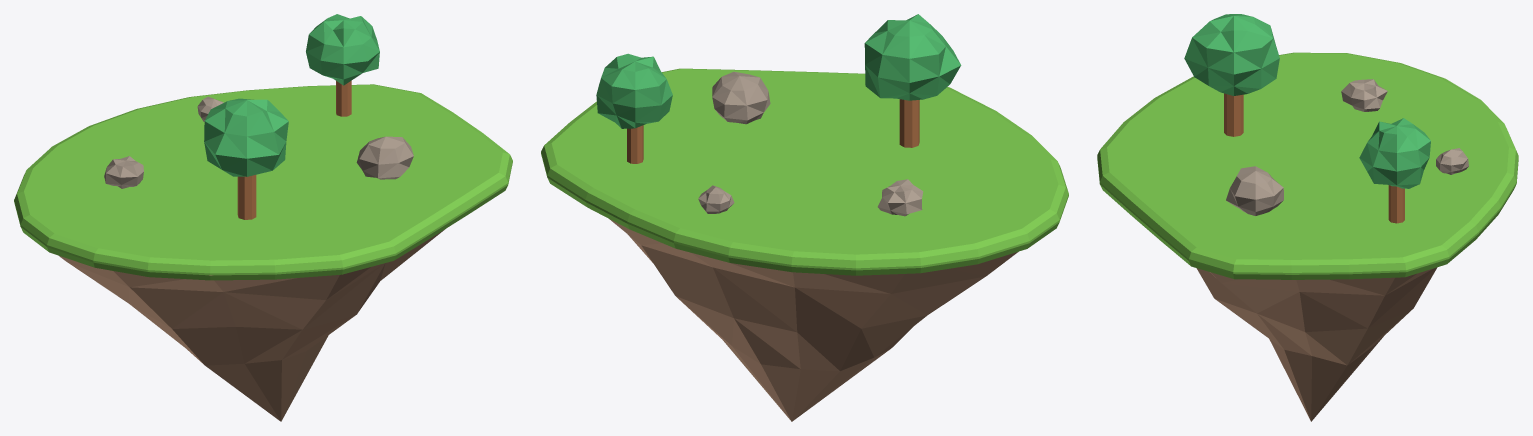
File: island_big.obj
3 views of the same model, side by side, from view 1: azimuth 30°, elevation 25°; view 2: azimuth 150°, elevation 25°; view 3: azimuth 270°, elevation 25° (orthographic). The views are drawn at different scales.
Size of the model in its own units: 23.43 by 18.81 by 19.4.
